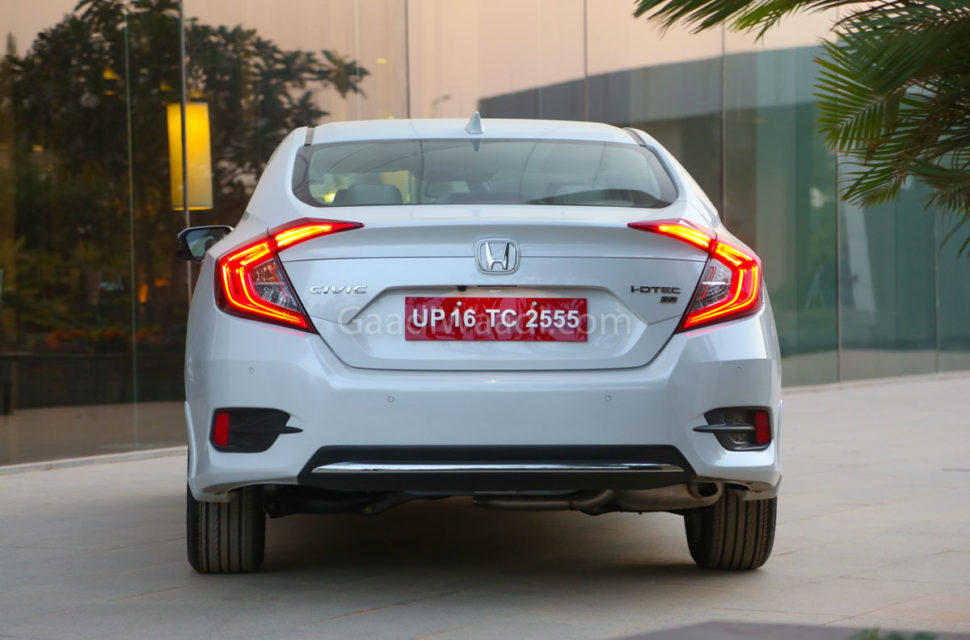number_plate: (402, 292, 591, 347)
